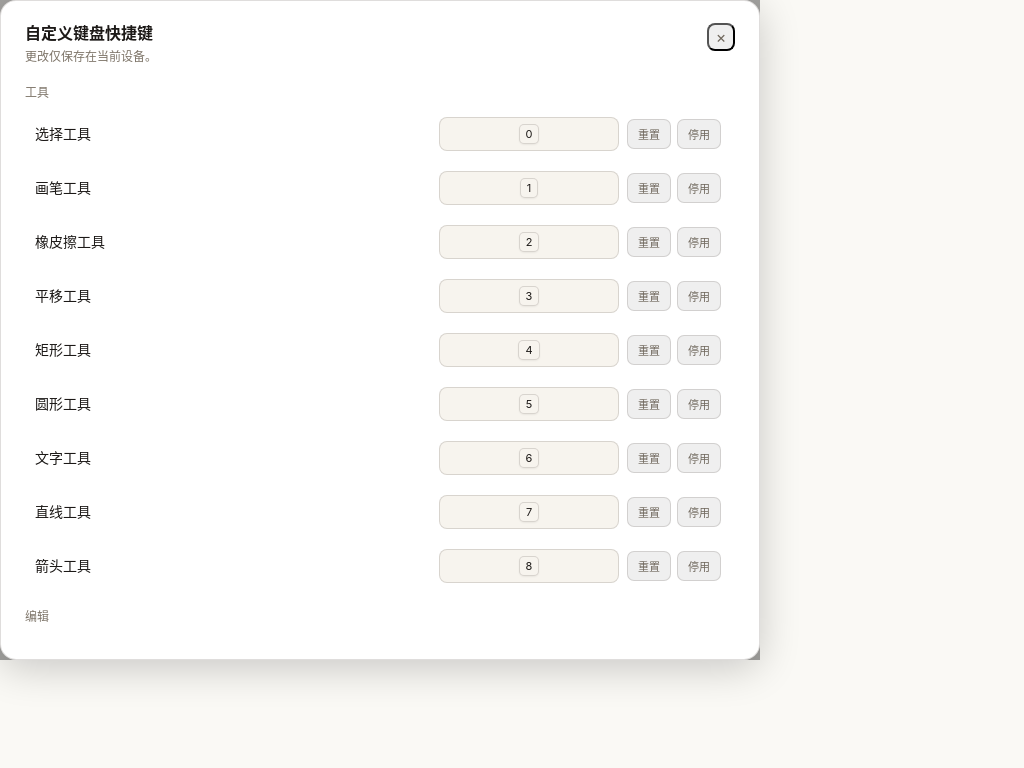
KeyboardShortcutSettings › cancels shortcut recording with Escape without changing the binding
Click the button named "设置画笔工具快捷键". click: (529, 188)
box: x1=439 y1=171 x2=619 y2=205
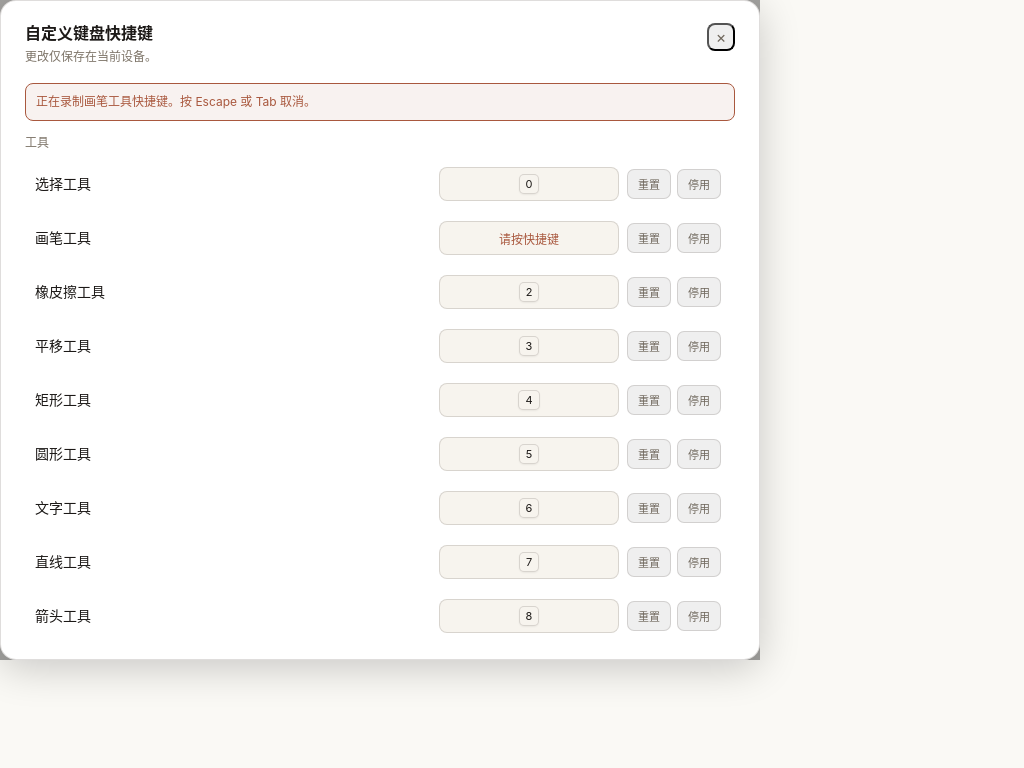
Result: the text "正在录制画笔工具快捷键。按 Escape 或 Tab 取消。" is shown at x1=25 y1=83 x2=735 y2=121
Press Escape in the button with aria-label "设置画笔工具快捷键", box x1=439 y1=221 x2=619 y2=255
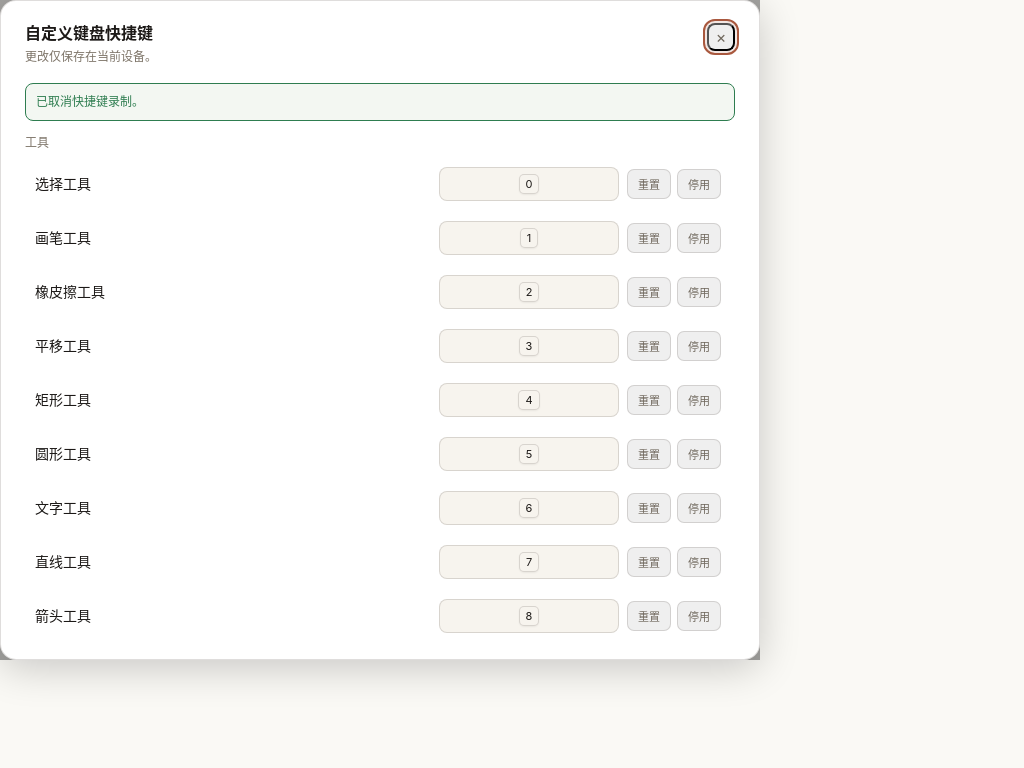
Result: the text "已取消快捷键录制。" is shown at x1=25 y1=83 x2=735 y2=121
Result: the text labelled "设置画笔工具快捷键" no longer shows "请按快捷键"
